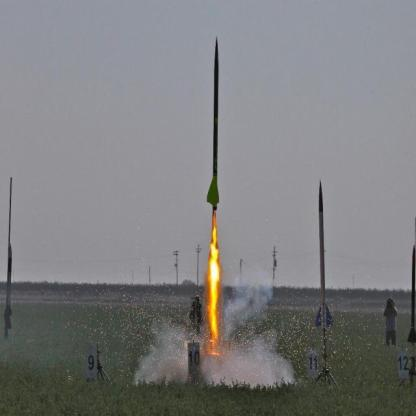MIL_TBM: (205, 38, 222, 209), (316, 182, 333, 328), (408, 246, 416, 342)
